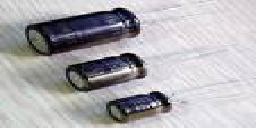Electrolytic-Capacitor: (61, 44, 248, 93), (105, 91, 216, 128)
